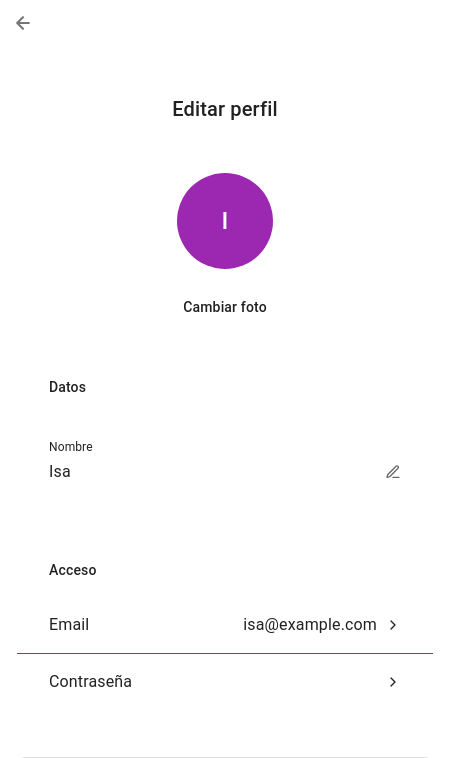
it: Given the edit profile screen › When the user opens the email and password rows › Then each has its own screen
Expected: the field labelled "Nombre" is shown, top-left (49, 456), bottom-right (369, 488)
Click the button "Email isa@example.com": [69, 624] box top-left (17, 597), bottom-right (433, 653)
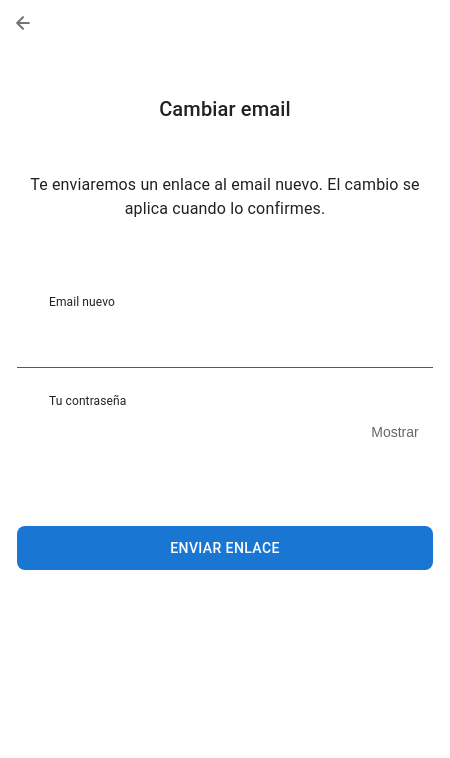
Expected: the heading "Cambiar email" is shown, top-left (159, 97), bottom-right (291, 121)
